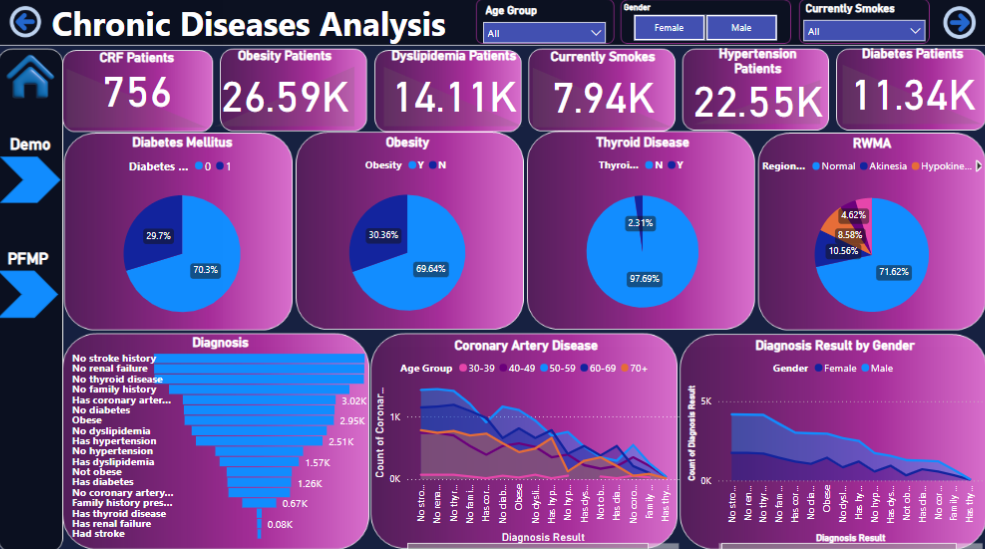

The dashboard page shown, as its layout file describes it:
{"tool":"powerbi","page":{"name":"Chronic Diseases Analysis","canvas":[1280,720],"ordinal":1},"visuals":[{"type":"image","box":[0,0,73,61.9],"z":0},{"type":"image","box":[1211.1,0,68.3,63.5],"z":1000},{"type":"image","box":[0,63.5,85.7,77.8],"z":2000},{"type":"textbox","box":[52.9,8.8,543.7,74.9],"z":3000},{"type":"areaChart","title":"Coronary Artery Disease ","fields":{"Category":["CAD Dataset.Diagnosis Result"],"Series":["CAD Dataset.Age Group"],"Y":["CountNonNull(CAD Dataset.Coronary Artery Disease (CAD))"]},"box":[482,439.3,405.6,280.7],"z":4000},{"type":"stackedAreaChart","title":"Diagnosis Result by Gender","fields":{"Category":["CAD Dataset.Diagnosis Result"],"Y":["CountNonNull(CAD Dataset.Diagnosis Result)"],"Series":["CAD Dataset.Gender"]},"box":[887.5,439.3,392.3,280.7],"z":5000},{"type":"funnel","title":"Diagnosis","fields":{"Category":["CAD Dataset.Diagnosis Result"],"Y":["CountNonNull(CAD Dataset.Diagnosis Result)"]},"box":[91.1,434.9,393.8,271.8],"z":6000},{"type":"pieChart","title":"Diabetes Mellitus","fields":{"Category":["CAD Dataset.Diabetes Mellitus"],"Y":["CountNonNull(CAD Dataset.Diabetes Mellitus)"]},"box":[52.9,176.3,371.8,258.6],"z":7000},{"type":"pieChart","title":"Obesity","fields":{"Category":["CAD Dataset.Obesity"],"Y":["CountNonNull(CAD Dataset.Obesity)"]},"box":[361.5,176.3,339.4,258.6],"z":8000},{"type":"pieChart","title":"Thyroid Disease","fields":{"Category":["CAD Dataset.Thyroid Disease"],"Y":["CountNonNull(CAD Dataset.Thyroid Disease)"]},"box":[684.7,176.3,299.8,255.7],"z":9000},{"type":"pieChart","title":"RWMA","fields":{"Category":["CAD Dataset.Regional Wall Motion Abnormalities"],"Y":["CountNonNull(CAD Dataset.Regional Wall Motion Abnormalities)"]},"box":[984.5,177.8,293.9,261.6],"z":10000},{"type":"kpi","title":"Diabetes Patients","fields":{"TrendLine":["CAD Dataset.Diabetes Mellitus"],"Indicator":["CountNonNull(CAD Dataset.Diabetes Mellitus)"]},"box":[1088.8,61.7,191,107.3],"z":11000},{"type":"kpi","title":"Hypertension Patients","fields":{"TrendLine":["CAD Dataset.Hypertension"],"Indicator":["CountNonNull(CAD Dataset.Hypertension)"]},"box":[897.8,61.7,173.4,107.3],"z":12000},{"type":"kpi","title":"Dyslipidemia Patients","fields":{"TrendLine":["CAD Dataset.Dyslipidemia"],"Indicator":["CountNonNull(CAD Dataset.Dyslipidemia)"]},"box":[495.2,64.7,191,107.3],"z":13000},{"type":"kpi","title":"Obesity Patients","fields":{"TrendLine":["CAD Dataset.Obesity"],"Indicator":["CountNonNull(CAD Dataset.Obesity)"]},"box":[276.2,64.7,191,107.3],"z":14000},{"type":"kpi","title":"CRF Patients","fields":{"TrendLine":["CAD Dataset.Chronic Renal Failure"],"Indicator":["CountNonNull(CAD Dataset.Chronic Renal Failure)"]},"box":[85.2,67.6,191,105.8],"z":15000},{"type":"slicer","fields":{"Values":["CAD Dataset.Gender"]},"box":[797.9,0,235.1,61.7],"z":16000},{"type":"slicer","fields":{"Values":["CAD Dataset.Age Group"]},"box":[618.6,2.9,179.3,61.7],"z":17000},{"type":"slicer","fields":{"Values":["CAD Dataset.Currently Smokes"]},"box":[1033,0,177.8,61.7],"z":18000},{"type":"kpi","title":"Currently Smokes","fields":{"Indicator":["CountNonNull(CAD Dataset.Currently Smokes)"],"TrendLine":["CAD Dataset.Currently Smokes"]},"box":[687.7,66.1,191,107.3],"z":19000},{"type":"shape","title":"Demo","box":[2.9,177.8,79.3,88.2],"z":20000},{"type":"shape","title":"PFMP","box":[0,325.8,78.8,89.4],"z":21000}]}

Visuals, with their boxes in screenshot pixels (x1, y1, x2, y2), scaled from the page's 1280x720 canvas onto the 985x549 screenshot:
image: bbox(0, 0, 56, 47)
image: bbox(932, 0, 984, 48)
image: bbox(0, 48, 66, 108)
textbox: bbox(41, 7, 459, 64)
"Coronary Artery Disease " areaChart: bbox(371, 335, 683, 548)
"Diagnosis Result by Gender" stackedAreaChart: bbox(683, 335, 984, 548)
"Diagnosis" funnel: bbox(70, 332, 373, 539)
"Diabetes Mellitus" pieChart: bbox(41, 134, 327, 332)
"Obesity" pieChart: bbox(278, 134, 539, 332)
"Thyroid Disease" pieChart: bbox(527, 134, 758, 329)
"RWMA" pieChart: bbox(758, 136, 984, 335)
"Diabetes Patients" kpi: bbox(838, 47, 984, 129)
"Hypertension Patients" kpi: bbox(691, 47, 824, 129)
"Dyslipidemia Patients" kpi: bbox(381, 49, 528, 131)
"Obesity Patients" kpi: bbox(213, 49, 360, 131)
"CRF Patients" kpi: bbox(66, 52, 213, 132)
slicer - CAD Dataset.Gender: bbox(614, 0, 795, 47)
slicer - CAD Dataset.Age Group: bbox(476, 2, 614, 49)
slicer - CAD Dataset.Currently Smokes: bbox(795, 0, 932, 47)
"Currently Smokes" kpi: bbox(529, 50, 676, 132)
"Demo" shape: bbox(2, 136, 63, 203)
"PFMP" shape: bbox(0, 248, 61, 317)
